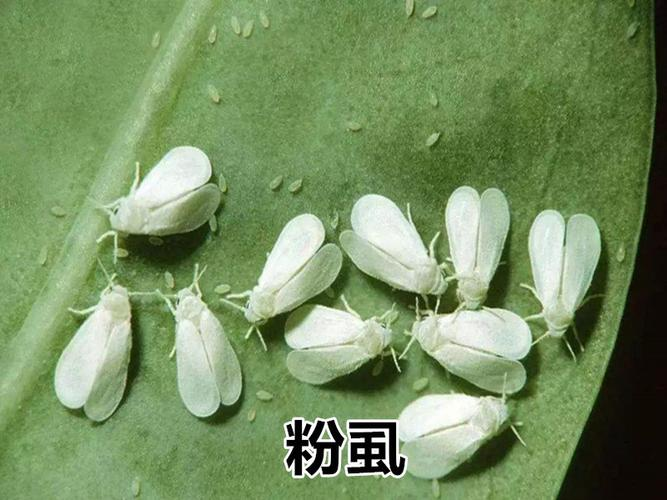Delphacidae: (54, 255, 156, 424), (220, 212, 344, 351), (88, 144, 222, 264), (337, 193, 460, 316), (395, 372, 528, 480), (155, 260, 242, 419), (522, 208, 610, 362), (396, 296, 532, 394), (283, 296, 402, 387), (439, 185, 511, 323)
